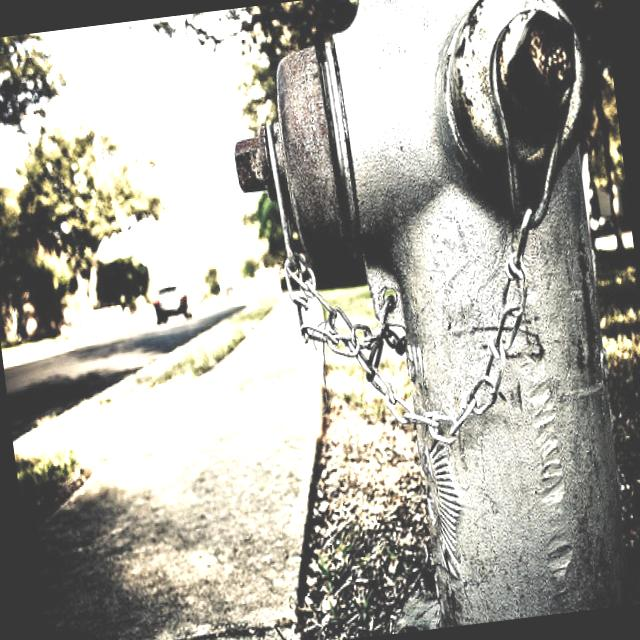Vehicle: (151, 282, 192, 324)
